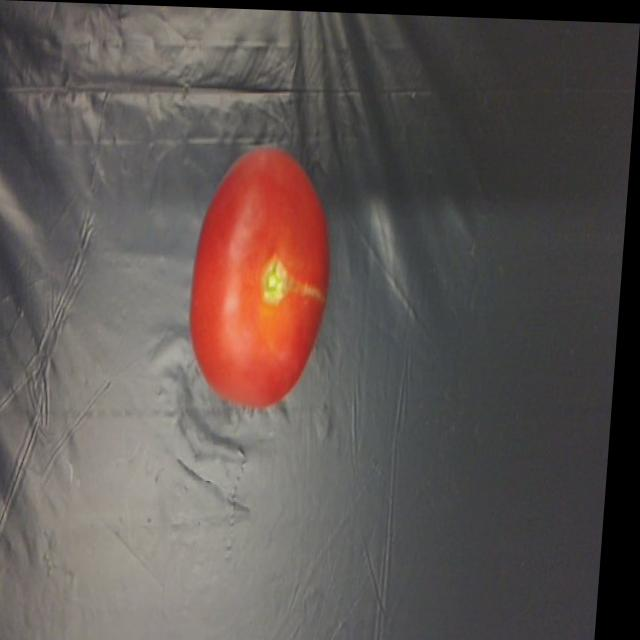kirmizi: (180, 116, 339, 424)
